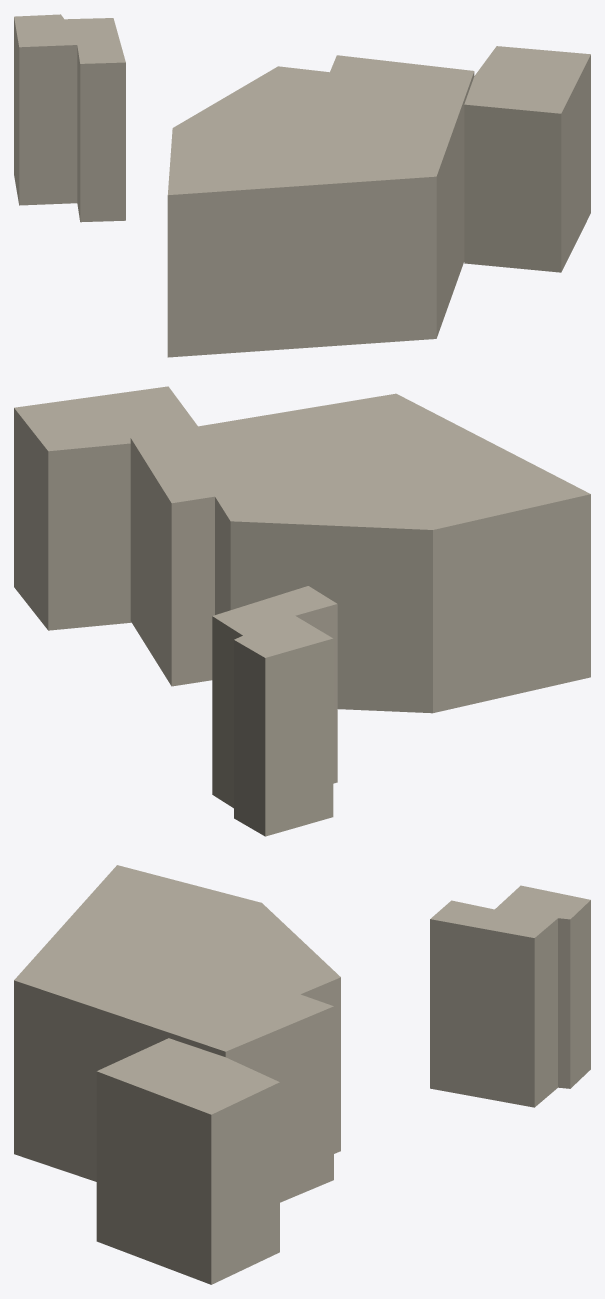
Rendered from kalkara_66_28_collision.glb.
3 renders of one model, top to bottom at view 1: azimuth 30°, elevation 25°; view 2: azimuth 150°, elevation 25°; view 3: azimuth 270°, elevation 25°, orthographic. The views are drawn at different scales.
Parts seen in each view (by area): view 1: geometry_0; view 2: geometry_0; view 3: geometry_0.
Part boxes in pixels (box(x1,y1,x2,y2)): geometry_0: box(14, 14, 590, 357); geometry_0: box(14, 386, 590, 836); geometry_0: box(14, 865, 590, 1284).
Bounding box in the file's own units: 31.52 × 10.6 × 31.47.
